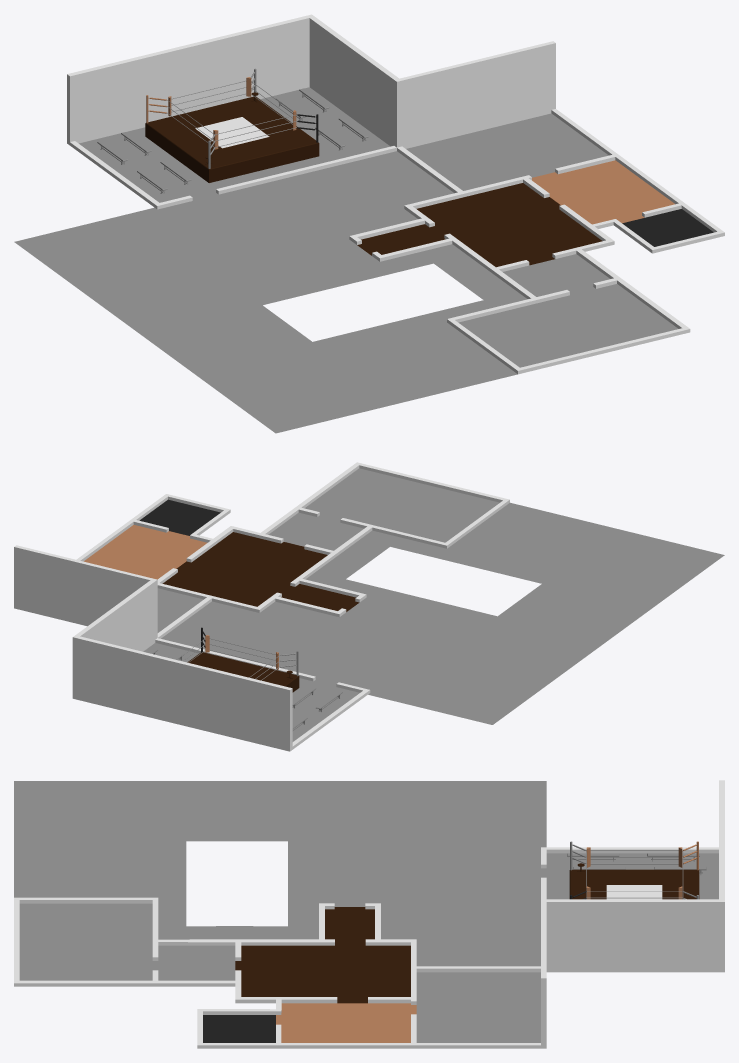
The model's file is Salle_07_b.FBX.
The picture shows the model from 3 angles, top to bottom: view 1: azimuth 30°, elevation 25°; view 2: azimuth 150°, elevation 25°; view 3: azimuth 270°, elevation 25°; orthographic projection. The views are drawn at different scales.
Visible parts, largest first — view 1: Piece_07, Ring_Boxe, Ring_Cordes; view 2: Piece_07, Ring_Boxe; view 3: Piece_07, Ring_Boxe, Ring_Cordes, Ring_Poteaux.
Boxes of the visible parts, box(x1,y1,x2,y2) form: Piece_07: box(14, 14, 724, 433); Ring_Boxe: box(145, 96, 319, 182); Ring_Cordes: box(167, 80, 296, 147); Piece_07: box(14, 462, 724, 751); Ring_Boxe: box(187, 652, 299, 692); Piece_07: box(14, 780, 724, 1048); Ring_Boxe: box(569, 869, 699, 899); Ring_Cordes: box(586, 850, 683, 898); Ring_Poteaux: box(570, 841, 698, 899).
Bounding box in the file's own units: 2445 × 300 × 2744.
